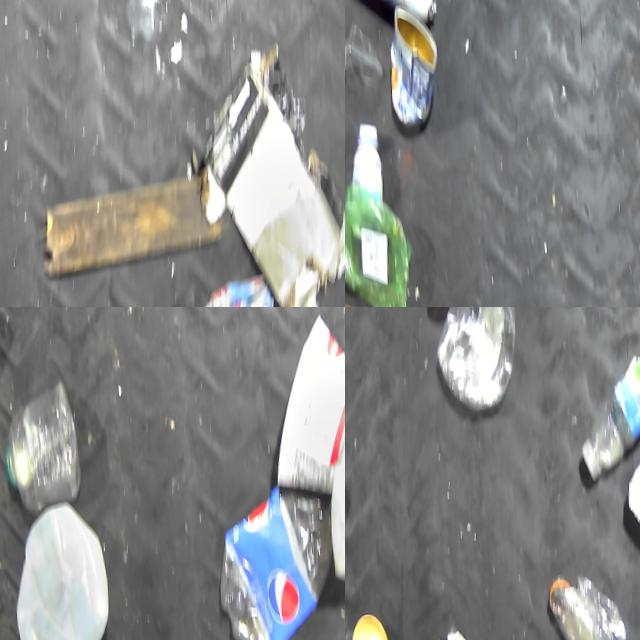can: (381, 1, 441, 138), (345, 0, 437, 36), (620, 415, 640, 548)
milk_jug: (5, 499, 107, 640), (320, 385, 345, 589)
plastic_bottle: (206, 494, 331, 640), (429, 307, 530, 415), (572, 341, 640, 491), (541, 572, 624, 640)
